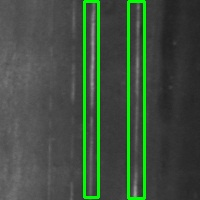scratches: (128, 1, 144, 198), (84, 1, 98, 197)
